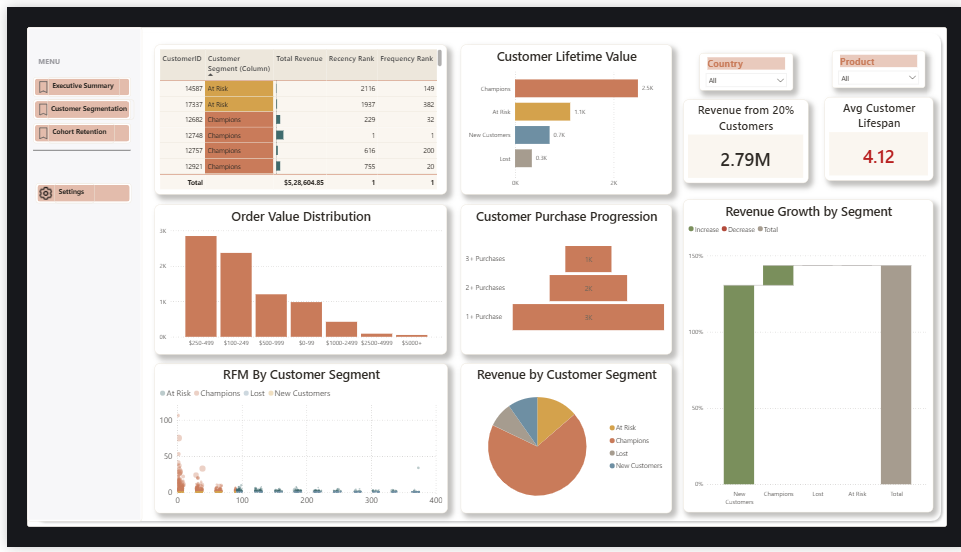

What the dashboard file says about the page in this screenshot:
{"tool":"powerbi","page":{"name":"Customer Segmentation","canvas":[1920,1080],"ordinal":1},"visuals":[{"type":"shape","title":"bg_card","box":[40,40,1840,1000],"z":0},{"type":"shape","box":[40,40,230,988.9],"z":1000},{"type":"actionButton","title":"overview button","box":[52.5,140,195,40],"z":2000},{"type":"textbox","box":[57.8,92.2,58.9,33.3],"z":3000},{"type":"actionButton","box":[52.5,185.8,195,40],"z":4000},{"type":"actionButton","box":[52.5,231.7,195,40],"z":5000},{"type":"actionButton","box":[57.3,353.6,190.9,40],"z":6000},{"type":"shape","box":[53.6,271.8,194.5,28.2],"z":7000},{"type":"textbox","box":[80,185.8,174,40],"z":8000},{"type":"textbox","box":[94.4,353.3,80,40],"z":9000},{"type":"textbox","box":[82.5,231.7,132.5,40],"z":10000},{"type":"textbox","box":[82.5,140,143.3,40],"z":11000},{"type":"scatterChart","title":"RFM By Customer Segment","fields":{"X":["ecommerce_cleaned.Recency (Days)"],"Y":["ecommerce_cleaned.Frequency (Orders)"],"Size":["ecommerce_cleaned.Monetary (Revenue)"],"Series":["ecommerce_cleaned.Customer Segment (Column)"],"Category":["ecommerce_cleaned.CustomerID"]},"box":[295,712.5,586,300],"z":12000},{"type":"clusteredBarChart","title":"Customer Lifetime Value","fields":{"Category":["ecommerce_cleaned.Customer Segment (Column)"],"Y":["ecommerce_cleaned.Average Historic CLV"]},"box":[908,74,422,300],"z":13000},{"type":"tableEx","fields":{"Values":["ecommerce_cleaned.CustomerID","ecommerce_cleaned.Customer Segment (Column)","ecommerce_cleaned.Total Revenue","ecommerce_cleaned.Recency Rank","ecommerce_cleaned.Frequency Rank"]},"box":[296,74,585,300],"z":14000},{"type":"funnel","title":"Customer Purchase Progression","fields":{"Category":["Funnel Stages.Stages"],"Y":["Funnel Stages.Funnel Value"]},"box":[908,396,422,300],"z":15000},{"type":"waterfallChart","title":"Revenue Growth by Segment","fields":{"Category":["ecommerce_cleaned.Customer Segment (Column)"],"Y":["ecommerce_cleaned.MoM Revenue Growth %"]},"box":[1352,386,500,625.7],"z":16000},{"type":"slicer","fields":{"Values":["ecommerce_cleaned.Country"]},"box":[1384,92,187.1,74.3],"z":17000},{"type":"slicer","fields":{"Values":["ecommerce_cleaned.Description"]},"box":[1650,88,186,74],"z":18000},{"type":"clusteredColumnChart","title":"Order Value Distribution","fields":{"Category":["ecommerce_cleaned.Order Value Bin"],"Y":["ecommerce_cleaned.Order Count"]},"box":[295,395,585,300],"z":19000},{"type":"cardVisual","title":"Avg Customer Lifespan","fields":{"Data":["ecommerce_cleaned.Avg Customer Lifespan(Months)"]},"box":[1635,180,217.5,167.5],"z":20000},{"type":"cardVisual","title":"Revenue from 20% Customers","fields":{"Data":["ecommerce_cleaned.Revenue from Top 20% Customers"]},"box":[1352.5,185,250,167.5],"z":21000},{"type":"pieChart","title":"Revenue by Customer Segment","fields":{"Y":["ecommerce_cleaned.Total Revenue"],"Series":["ecommerce_cleaned.Customer Segment (Column)"]},"box":[908,712,422,300],"z":22000}]}

Visuals, with their boxes in screenshot pixels (x1, y1, x2, y2), scaled from the page's 1920x1080 canvas onto the 961x552 screenshot:
"bg_card" shape: bbox=(20, 20, 941, 532)
shape: bbox=(20, 20, 135, 526)
"overview button" actionButton: bbox=(26, 72, 124, 92)
textbox: bbox=(29, 47, 58, 64)
actionButton: bbox=(26, 95, 124, 115)
actionButton: bbox=(26, 118, 124, 139)
actionButton: bbox=(29, 181, 124, 201)
shape: bbox=(27, 139, 124, 153)
textbox: bbox=(40, 95, 127, 115)
textbox: bbox=(47, 181, 87, 201)
textbox: bbox=(41, 118, 108, 139)
textbox: bbox=(41, 72, 113, 92)
"RFM By Customer Segment" scatterChart: bbox=(148, 364, 441, 518)
"Customer Lifetime Value" clusteredBarChart: bbox=(454, 38, 666, 191)
tableEx - ecommerce_cleaned.CustomerID x ecommerce_cleaned.Customer Segment (Column): bbox=(148, 38, 441, 191)
"Customer Purchase Progression" funnel: bbox=(454, 202, 666, 356)
"Revenue Growth by Segment" waterfallChart: bbox=(677, 197, 927, 517)
slicer - ecommerce_cleaned.Country: bbox=(693, 47, 786, 85)
slicer - ecommerce_cleaned.Description: bbox=(826, 45, 919, 83)
"Order Value Distribution" clusteredColumnChart: bbox=(148, 202, 440, 355)
"Avg Customer Lifespan" cardVisual: bbox=(818, 92, 927, 178)
"Revenue from 20% Customers" cardVisual: bbox=(677, 95, 802, 180)
"Revenue by Customer Segment" pieChart: bbox=(454, 364, 666, 517)
